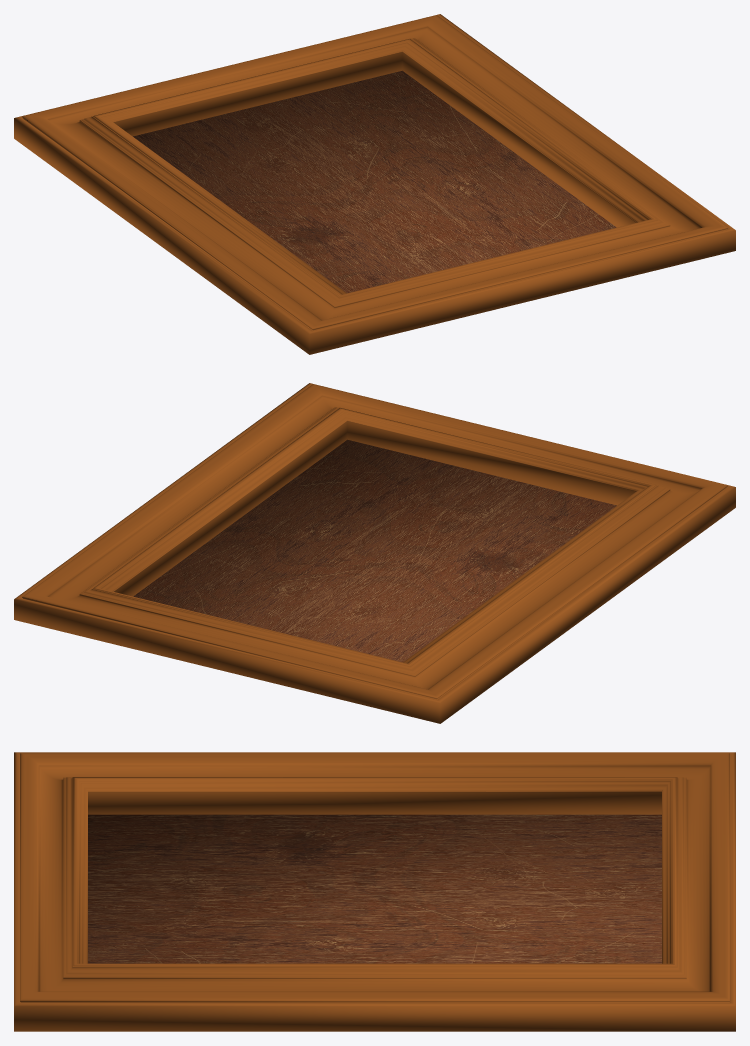
Rendered from frame.glb.
3 renders of one model, top to bottom at view 1: azimuth 30°, elevation 25°; view 2: azimuth 150°, elevation 25°; view 3: azimuth 270°, elevation 25°, orthographic. The views are drawn at different scales.
Visible parts, largest first — view 1: Picture Frame; view 2: Picture Frame; view 3: Picture Frame.
Part boxes in pixels (x1=…): Picture Frame: x1=14, y1=14, x2=735, y2=354; Picture Frame: x1=14, y1=383, x2=735, y2=723; Picture Frame: x1=14, y1=752, x2=735, y2=1031.
Size of the model in its own units: 0.9747 by 0.0591 by 1.17.
Materials: 2 (1 with a texture image).
